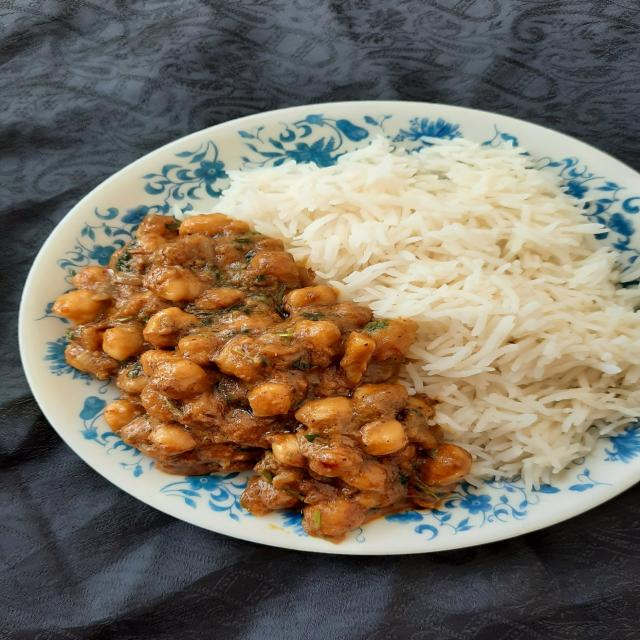Chole: (49, 215, 474, 544)
rice: (209, 136, 640, 492)
